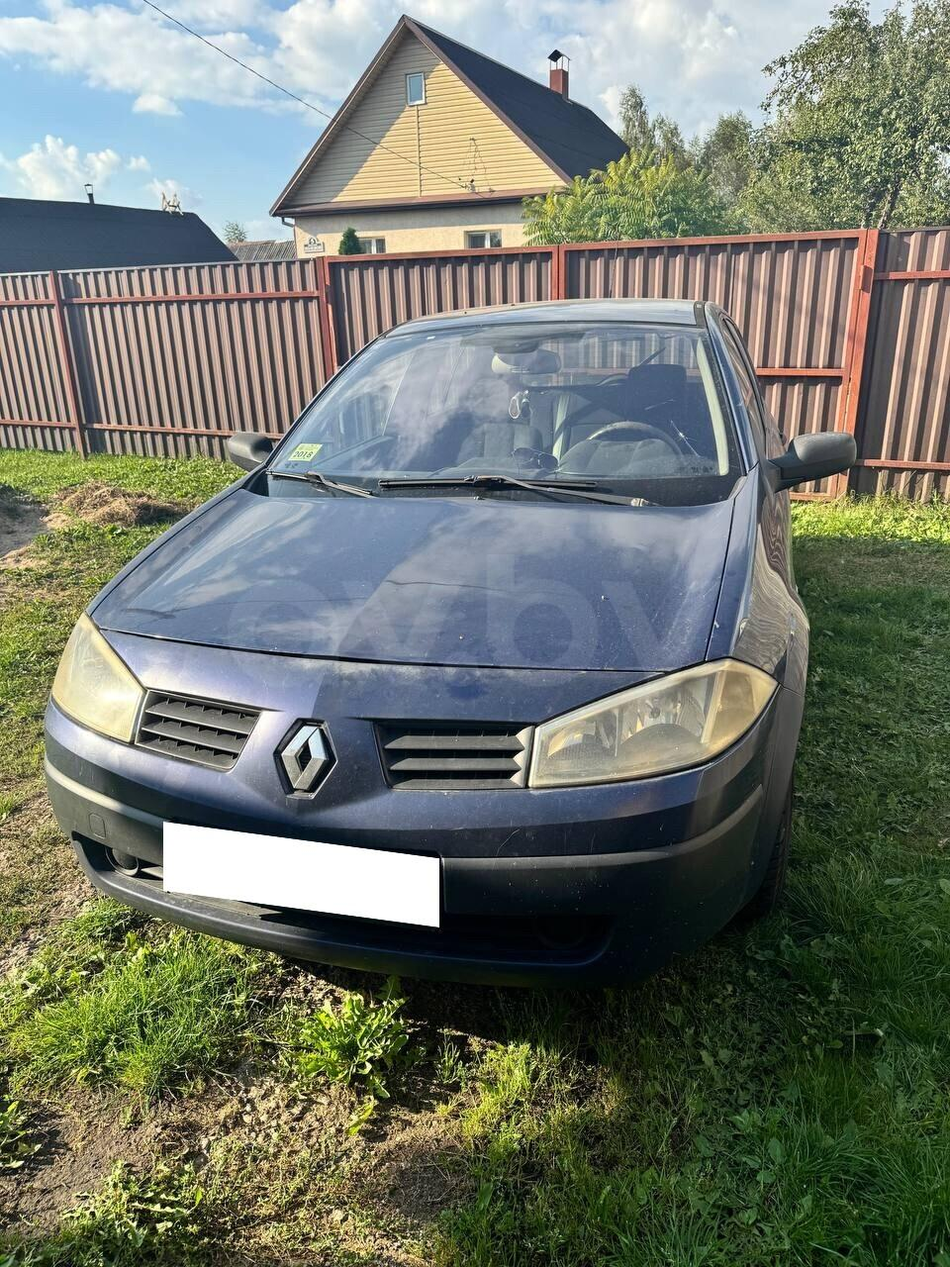Megane_2002-2006: (49, 290, 844, 955)
